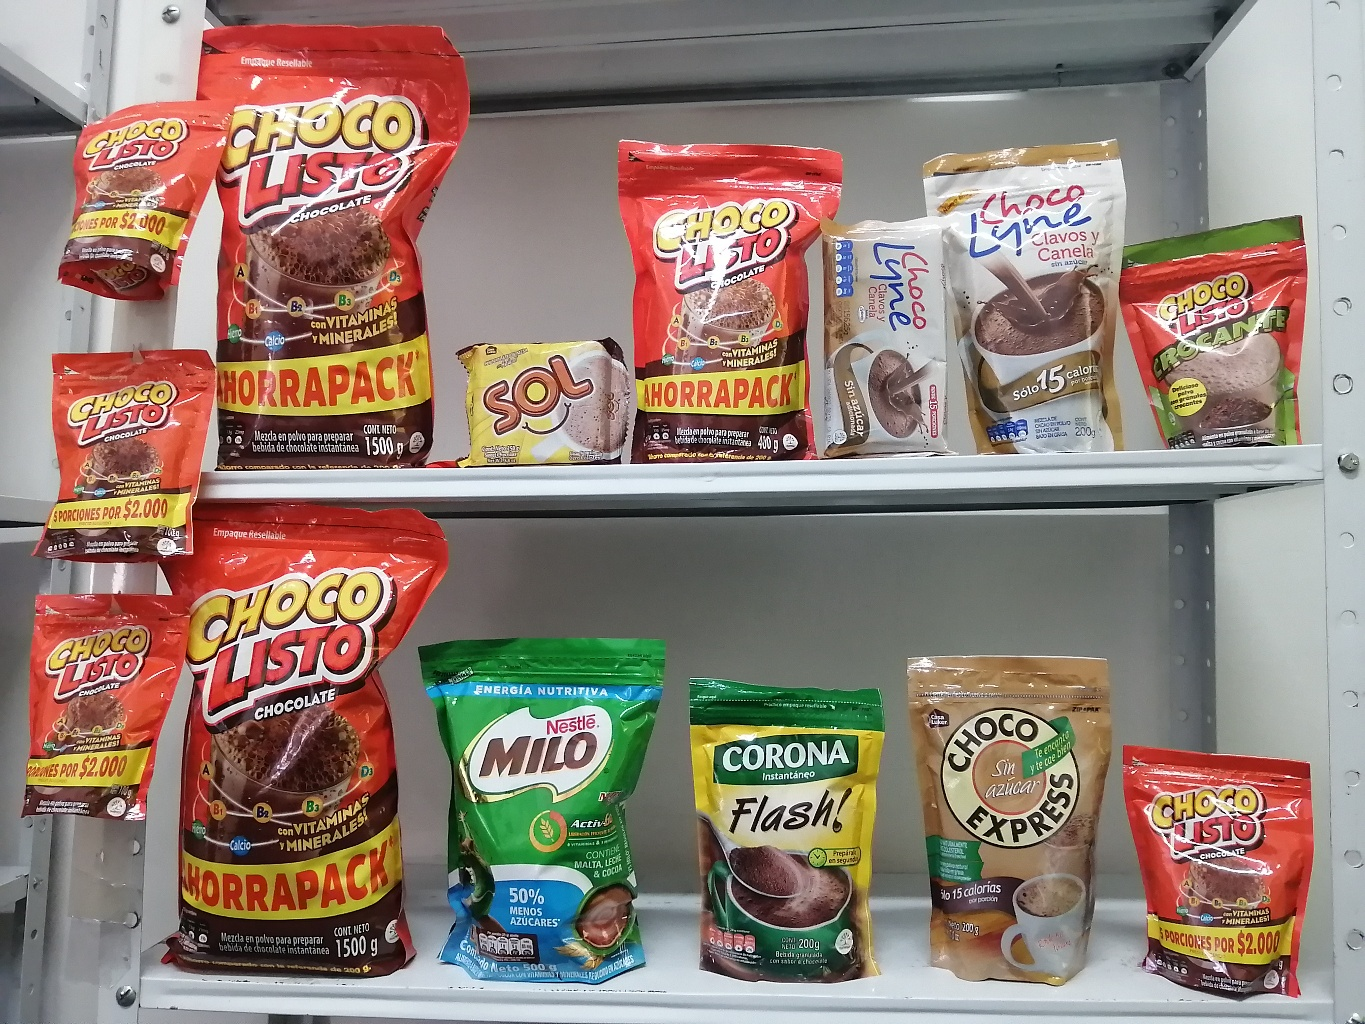COL0170102DYP10000: (1129, 199, 1321, 445)
COL0170103DYP1,500: (191, 3, 477, 464)
COL0170103DYP10000: (49, 86, 242, 312)
COL0170103DYP40000: (610, 116, 834, 458)
COL0170205DYP50000: (414, 608, 670, 989)
